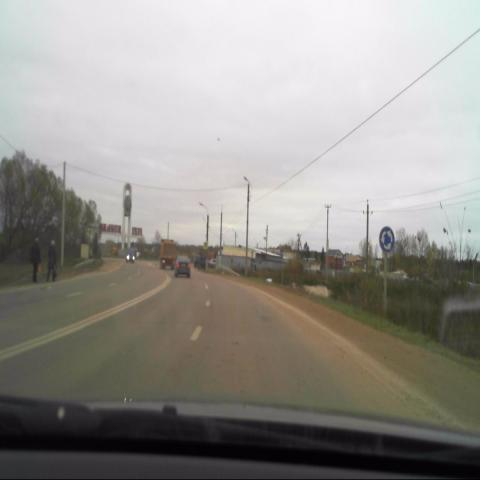4_3: (378, 224, 395, 255)
